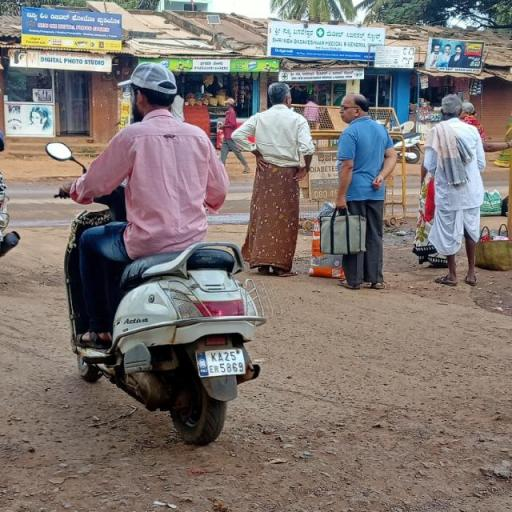bike: (36, 58, 278, 448)
numberplate: (198, 348, 248, 376)
withouthelmet: (130, 64, 176, 113)
